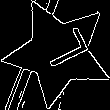L_SW: (28, 27, 88, 78)
